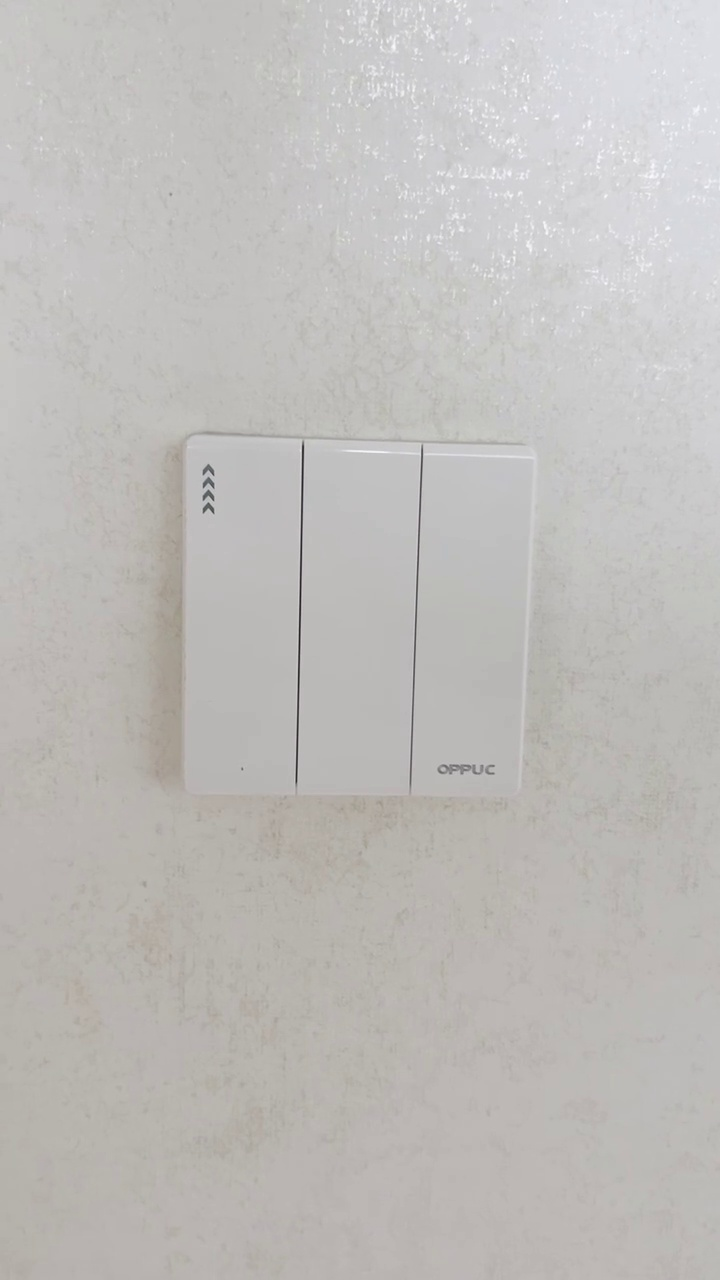button1: (416, 454, 524, 787), (190, 448, 296, 783), (304, 450, 410, 785)
